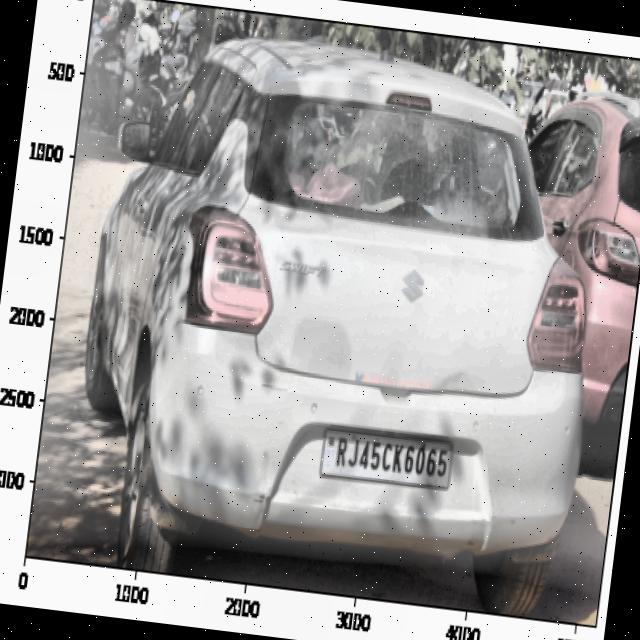license_plate: (328, 427, 450, 484)
